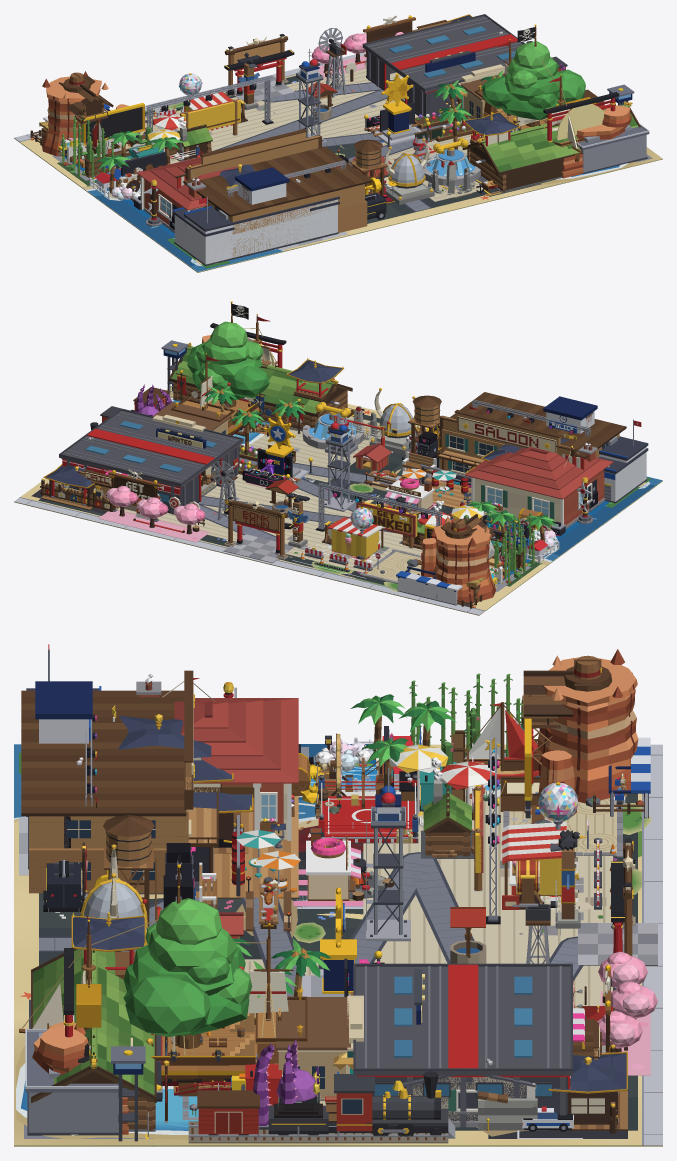
File: Decor_all.fbx
The picture shows the model from 3 angles, top to bottom: view 1: azimuth 30°, elevation 25°; view 2: azimuth 150°, elevation 25°; view 3: azimuth 270°, elevation 25°; orthographic projection. The views are drawn at different scales.
Visible parts, largest first — view 1: Saloon_Body.Decor_WesternSaloon_Saloon, Floor_Body.Decor_NinjaDojo_Floor, Hall_Roof.Decor_GymHall_Hall, Station_Body.Decor_PoliceStation_Station, Longhouse_Body.Decor_VikingLonghouse_Longhouse, Tree_Canopy.Decor_LittleHouse_Tree, Floor_Body.Decor_PirateShip_Floor, Mesa_Body.Decor_WesternSaloon_Mesa, Station_Roof.Decor_PoliceStation_Station, Ground_Body.Decor_VikingLonghouse_Ground, Helmet_Body.Decor_VikingLonghouse_Helmet, Moon_Body.Decor_NinjaDojo_Moon (+48 smaller); view 2: Floor_Body.Decor_NinjaDojo_Floor, Saloon_Body.Decor_WesternSaloon_Saloon, Hall_Roof.Decor_GymHall_Hall, Mesa_Body.Decor_WesternSaloon_Mesa, Tree_Canopy.Decor_LittleHouse_Tree, LittleHouse_Roof.Decor_LittleHouse_LittleHouse, Longhouse_Body.Decor_VikingLonghouse_Longhouse, Floor_Body.Decor_PoliceStation_Floor, Cherry_Body.Decor_NinjaDojo_Cherry, Floor_Body.Decor_PirateShip_Floor, LittleHouse_Body.Decor_LittleHouse_LittleHouse, Station_Body.Decor_PoliceStation_Station (+46 smaller); view 3: Floor_Body.Decor_NinjaDojo_Floor, Saloon_Body.Decor_WesternSaloon_Saloon, Hall_Roof.Decor_GymHall_Hall, Tree_Canopy.Decor_LittleHouse_Tree, Floor_Body.Decor_PirateShip_Floor, Train_Body.Decor_WesternSaloon_Train, Mesa_Body.Decor_WesternSaloon_Mesa, Floor_Body.Decor_PoliceStation_Floor, Longhouse_Body.Decor_VikingLonghouse_Longhouse, LittleHouse_Roof.Decor_LittleHouse_LittleHouse, Bank_Body.Decor_WesternSaloon_Bank, Hull_Body.Decor_PirateShip_Hull (+65 smaller).
Part boxes in pixels (x1=…): Saloon_Body.Decor_WesternSaloon_Saloon: x1=183, y1=129, x2=371, y2=257; Floor_Body.Decor_NinjaDojo_Floor: x1=40, y1=67, x2=498, y2=268; Hall_Roof.Decor_GymHall_Hall: x1=362, y1=14, x2=524, y2=92; Station_Body.Decor_PoliceStation_Station: x1=174, y1=182, x2=338, y2=265; Longhouse_Body.Decor_VikingLonghouse_Longhouse: x1=462, y1=101, x2=640, y2=192; Tree_Canopy.Decor_LittleHouse_Tree: x1=482, y1=41, x2=585, y2=120; Floor_Body.Decor_PirateShip_Floor: x1=14, y1=74, x2=662, y2=272; Mesa_Body.Decor_WesternSaloon_Mesa: x1=30, y1=71, x2=130, y2=165; Station_Roof.Decor_PoliceStation_Station: x1=172, y1=167, x2=339, y2=236; Ground_Body.Decor_VikingLonghouse_Ground: x1=19, y1=80, x2=654, y2=272; Helmet_Body.Decor_VikingLonghouse_Helmet: x1=384, y1=138, x2=434, y2=204; Moon_Body.Decor_NinjaDojo_Moon: x1=543, y1=92, x2=619, y2=142; Floor_Body.Decor_NinjaDojo_Floor: x1=38, y1=412, x2=651, y2=605; Saloon_Body.Decor_WesternSaloon_Saloon: x1=421, y1=392, x2=626, y2=520; Hall_Roof.Decor_GymHall_Hall: x1=59, y1=408, x2=243, y2=487; Mesa_Body.Decor_WesternSaloon_Mesa: x1=421, y1=516, x2=511, y2=607; Tree_Canopy.Decor_LittleHouse_Tree: x1=187, y1=321, x2=269, y2=400; LittleHouse_Roof.Decor_LittleHouse_LittleHouse: x1=465, y1=447, x2=613, y2=499; Longhouse_Body.Decor_VikingLonghouse_Longhouse: x1=169, y1=342, x2=352, y2=431; Floor_Body.Decor_PoliceStation_Floor: x1=14, y1=392, x2=531, y2=614; Cherry_Body.Decor_NinjaDojo_Cherry: x1=98, y1=485, x2=209, y2=542; Floor_Body.Decor_PirateShip_Floor: x1=14, y1=386, x2=662, y2=615; LittleHouse_Body.Decor_LittleHouse_LittleHouse: x1=474, y1=445, x2=605, y2=529; Station_Body.Decor_PoliceStation_Station: x1=546, y1=411, x2=647, y2=503; Floor_Body.Decor_NinjaDojo_Floor: x1=19, y1=752, x2=657, y2=1130; Saloon_Body.Decor_WesternSaloon_Saloon: x1=21, y1=670, x2=298, y2=898; Hall_Roof.Decor_GymHall_Hall: x1=353, y1=963, x2=572, y2=1075; Tree_Canopy.Decor_LittleHouse_Tree: x1=123, y1=898, x2=252, y2=1036; Floor_Body.Decor_PirateShip_Floor: x1=14, y1=744, x2=662, y2=1146; Train_Body.Decor_WesternSaloon_Train: x1=188, y1=1071, x2=455, y2=1143; Mesa_Body.Decor_WesternSaloon_Mesa: x1=507, y1=649, x2=643, y2=815; Floor_Body.Decor_PoliceStation_Floor: x1=19, y1=744, x2=662, y2=1146; Longhouse_Body.Decor_VikingLonghouse_Longhouse: x1=31, y1=948, x2=156, y2=1131; LittleHouse_Roof.Decor_LittleHouse_LittleHouse: x1=174, y1=698, x2=298, y2=783; Bank_Body.Decor_WesternSaloon_Bank: x1=276, y1=995, x2=363, y2=1100; Hull_Body.Decor_PirateShip_Hull: x1=47, y1=989, x2=307, y2=1088.
Size of the model in its own units: 190 by 47.65 by 130.
